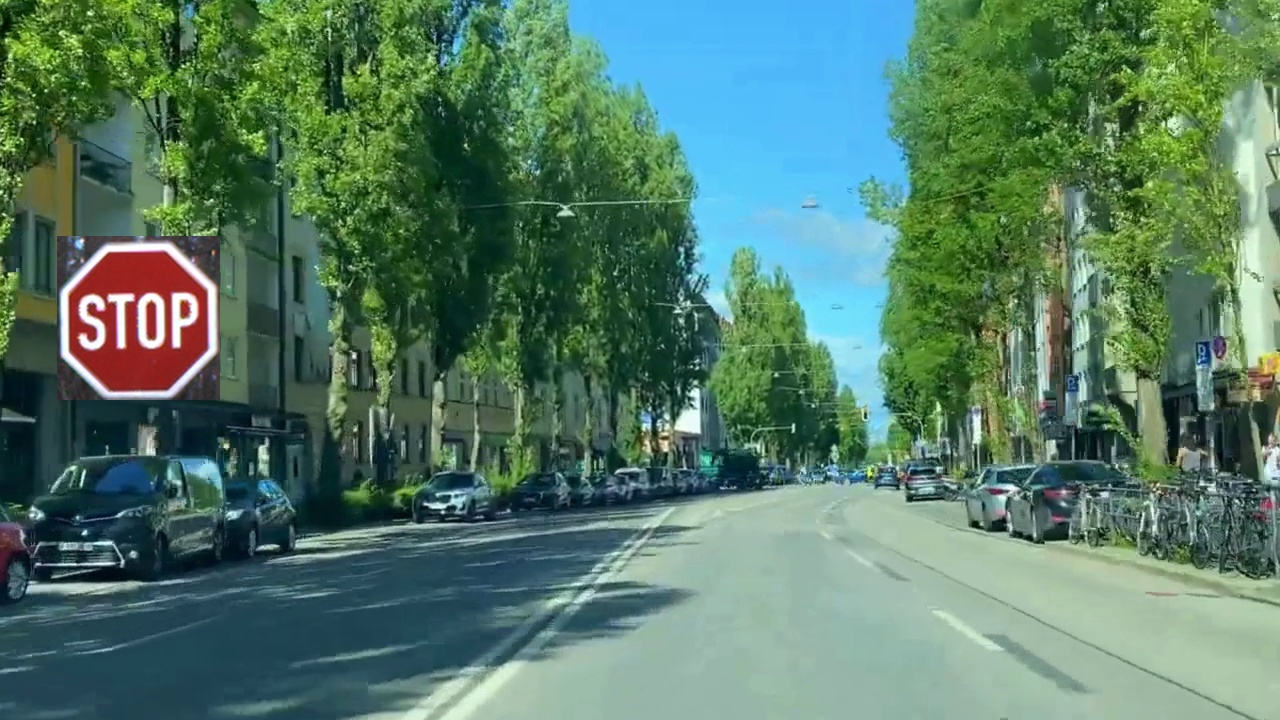Stop: (57, 236, 220, 400)
